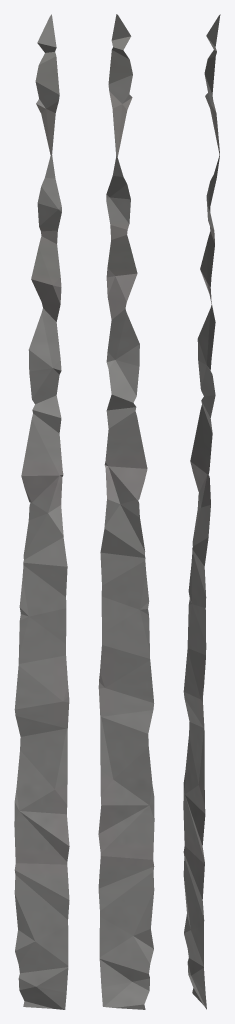
The picture shows the model from 3 angles, left to right: view 1: azimuth 30°, elevation 25°; view 2: azimuth 210°, elevation 25°; view 3: azimuth 330°, elevation 25°; orthographic projection.
Bounding box in the file's own units: 0.0316 × 0.7995 × 0.0263.
1 material, 1 textured.
